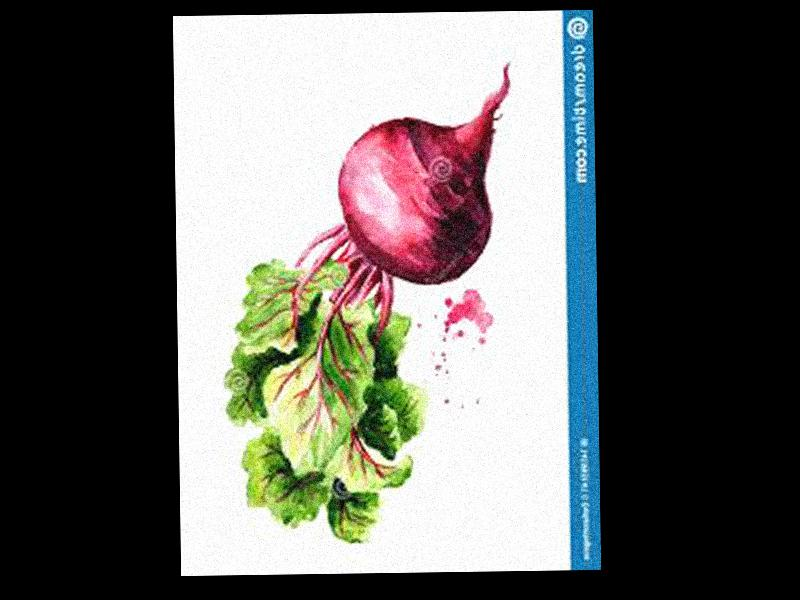Beet: (219, 65, 517, 547)
